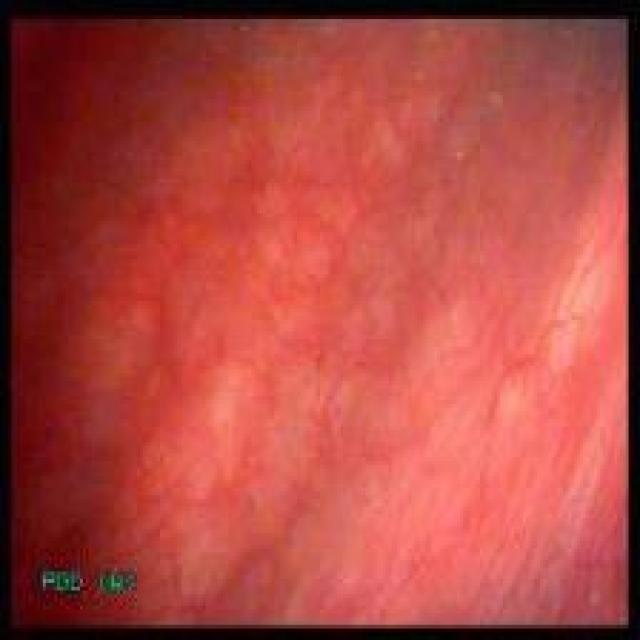blur: (12, 16, 447, 627)
color misalignment: (92, 562, 137, 598), (38, 567, 85, 598)
contrast: (13, 18, 158, 624)
